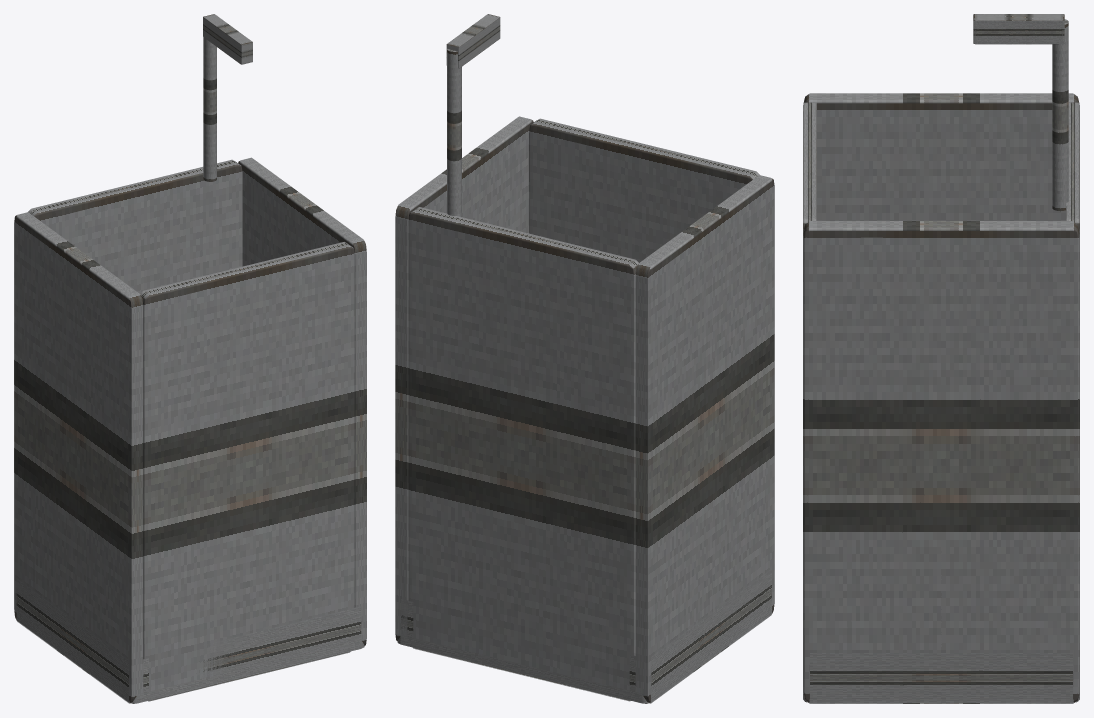
File: fountain.glb
The picture shows the model from 3 angles, left to right: view 1: azimuth 30°, elevation 25°; view 2: azimuth 150°, elevation 25°; view 3: azimuth 270°, elevation 25°; orthographic projection. The views are drawn at different scales.
Visible parts, largest first — view 1: edge (×2), side (×2), bottom, spout-post, spout; view 2: edge (×2), side (×2), bottom, spout-post, spout; view 3: side (×2), bottom, edge (×2), spout-post, spout.
Part boxes in pixels (left/top/right/bottom): edge (×2): left=28, top=159, right=355, bottom=701; side (×2): left=14, top=157, right=366, bottom=703; bottom: left=16, top=578, right=364, bottom=703; spout-post: left=203, top=37, right=216, bottom=181; spout: left=203, top=14, right=252, bottom=64; edge (×2): left=407, top=118, right=759, bottom=701; side (×2): left=395, top=116, right=774, bottom=703; bottom: left=397, top=568, right=771, bottom=703; spout-post: left=447, top=49, right=461, bottom=216; spout: left=446, top=14, right=500, bottom=68; side (×2): left=803, top=93, right=1079, bottom=703; bottom: left=803, top=653, right=1079, bottom=702; edge (×2): left=803, top=102, right=1079, bottom=232; spout-post: left=1052, top=19, right=1068, bottom=211; spout: left=973, top=14, right=1064, bottom=44.
Size of the model in its own units: 0.46 by 1.05 by 0.4.
1 material, 1 textured.
